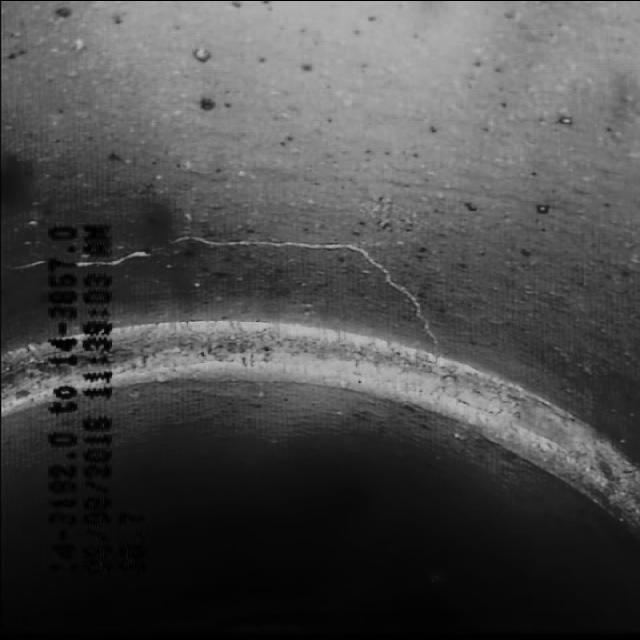Crack: (115, 210, 402, 292)
